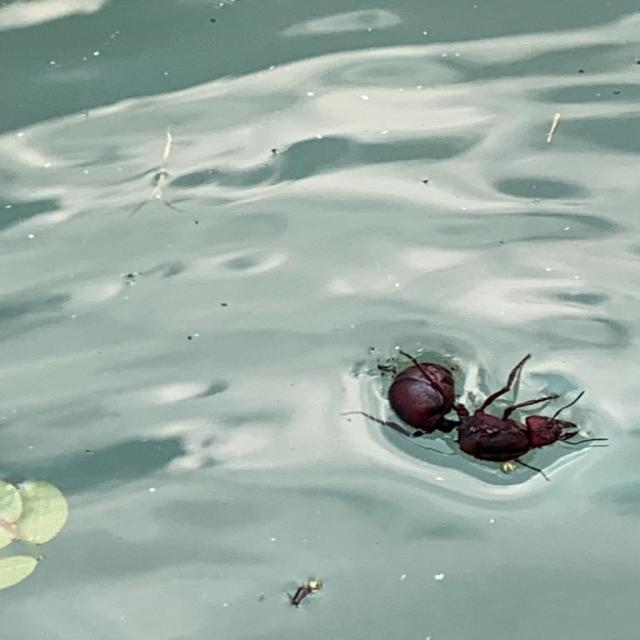Alive-Female-Dealate: (340, 346, 609, 481)
